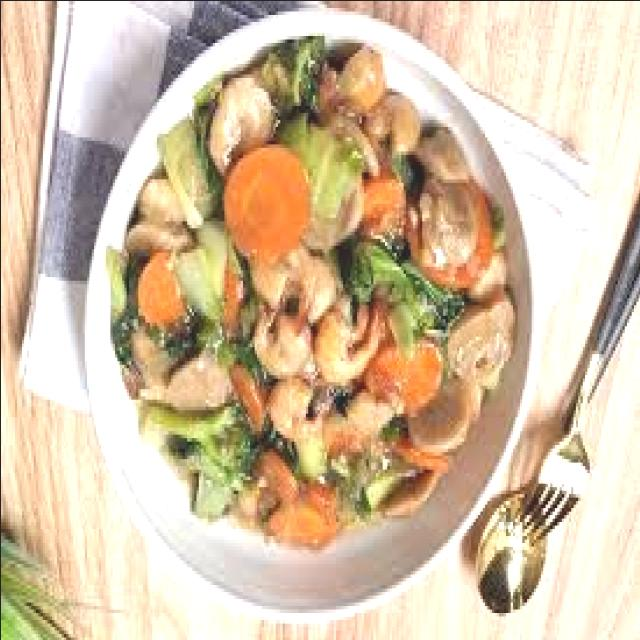capcay: (109, 38, 519, 549)
